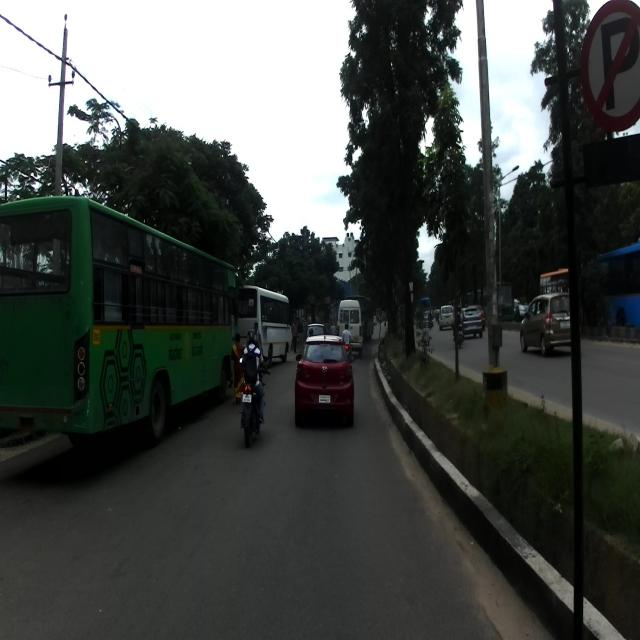Car_Hyundai: (294, 332, 355, 429)
Car_Maruti-Suzuki: (520, 291, 581, 354)
bus: (0, 194, 241, 442)
motorcycle_bajaj: (238, 356, 270, 446)
